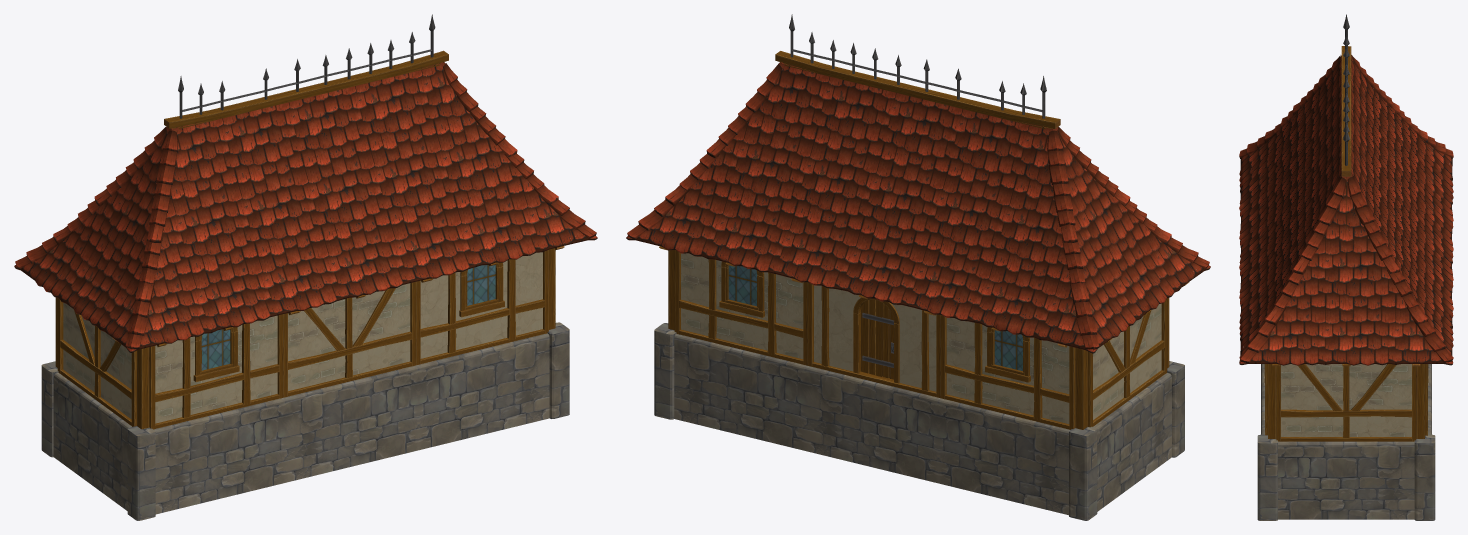
The model's file is house_3x1_01_(1).gltf.
3 renders of one model, left to right at view 1: azimuth 30°, elevation 25°; view 2: azimuth 150°, elevation 25°; view 3: azimuth 270°, elevation 25°, orthographic. The views are drawn at different scales.
Parts seen in each view (by area): view 1: House_3x1_01 (1); view 2: House_3x1_01 (1); view 3: House_3x1_01 (1).
Part boxes in pixels (box(x1,y1,x2,y2)): House_3x1_01 (1): box(14, 14, 597, 520); House_3x1_01 (1): box(626, 14, 1210, 520); House_3x1_01 (1): box(1239, 14, 1453, 520).
Size of the model in its own units: 17.64 by 13.95 by 7.66.
Materials: 10 (10 with a texture image).
